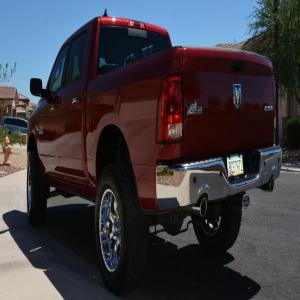Vehicle-registration-plate: (228, 155, 246, 180)
